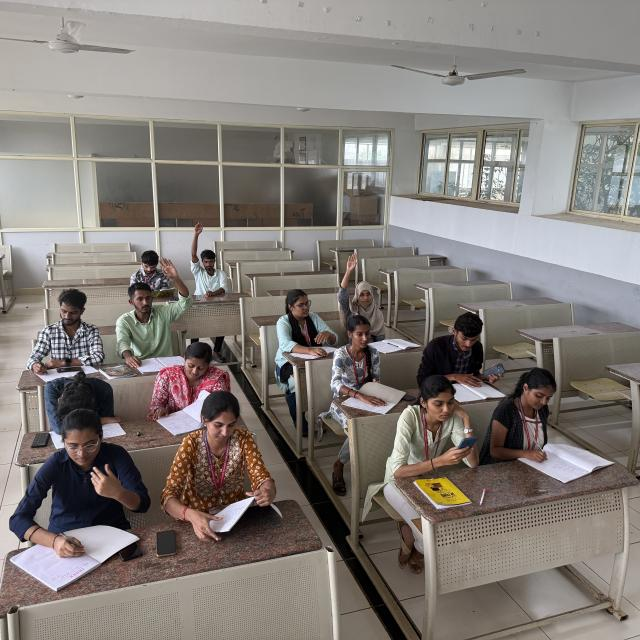Hand Rising: (118, 258, 186, 351), (338, 248, 388, 338), (188, 222, 230, 298)
Reading: (176, 392, 276, 521), (156, 336, 221, 428), (422, 310, 485, 397)
Using Phone: (394, 375, 478, 473)
Writing: (38, 418, 122, 581), (496, 369, 586, 471)
